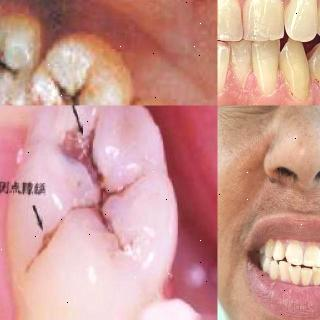cavities: (44, 136, 142, 260), (61, 75, 103, 105), (0, 32, 15, 92)
maligned: (277, 33, 315, 105), (217, 40, 233, 100), (306, 39, 320, 93), (279, 260, 293, 283), (288, 264, 302, 284), (299, 266, 313, 286), (310, 266, 320, 288), (270, 258, 280, 278)
plaque: (311, 271, 320, 286), (302, 276, 313, 288), (290, 273, 300, 285)
stains: (310, 71, 320, 95)
